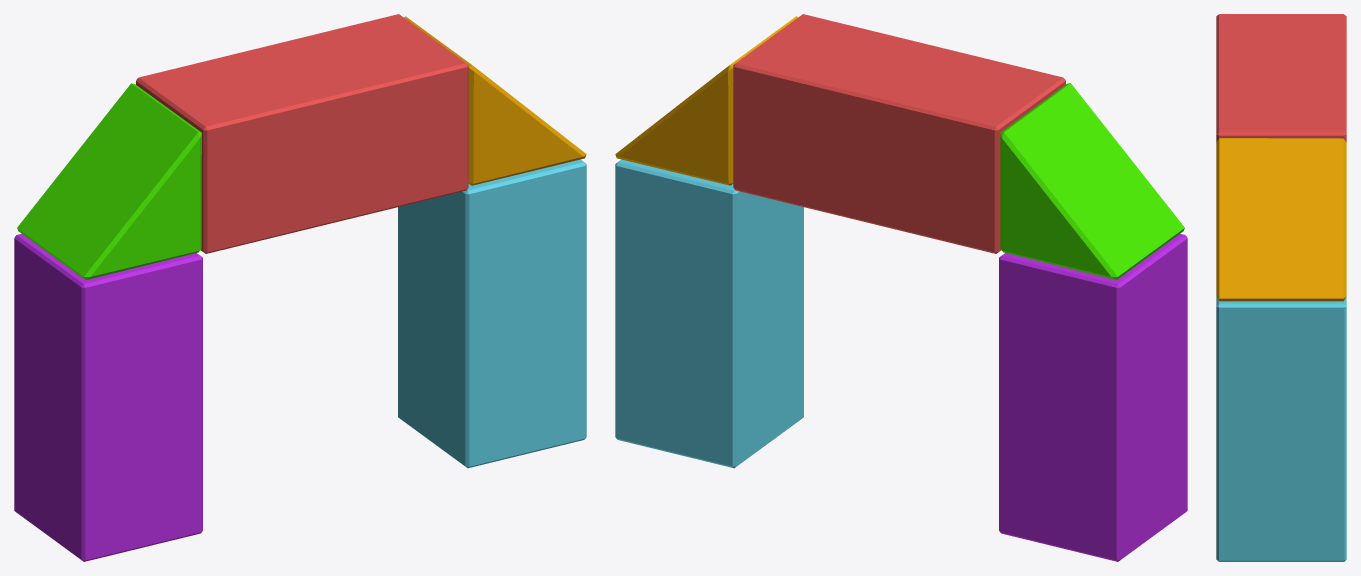
File: Triangles.fbx
3 renders of one model, left to right at view 1: azimuth 30°, elevation 25°; view 2: azimuth 150°, elevation 25°; view 3: azimuth 270°, elevation 25°, orthographic. The views are drawn at different scales.
Visible parts, largest first — view 1: polySurface61, polySurface64, polySurface59, polySurface60, polySurface63; view 2: polySurface61, polySurface64, polySurface59, polySurface60, polySurface63; view 3: polySurface59, polySurface63, polySurface64.
Boxes of the visible parts, <box> form: polySurface61: <box>14,233,202,561</box>; polySurface64: <box>136,14,468,253</box>; polySurface59: <box>398,159,586,468</box>; polySurface60: <box>17,83,201,280</box>; polySurface63: <box>404,16,586,185</box>; polySurface61: <box>999,233,1187,561</box>; polySurface64: <box>733,14,1065,253</box>; polySurface59: <box>615,159,803,468</box>; polySurface60: <box>1000,83,1184,280</box>; polySurface63: <box>615,16,797,185</box>; polySurface59: <box>1216,297,1346,561</box>; polySurface63: <box>1216,138,1346,301</box>; polySurface64: <box>1216,14,1346,142</box>.
Size of the model in its own units: 3.54 by 2.71 by 0.8508.
